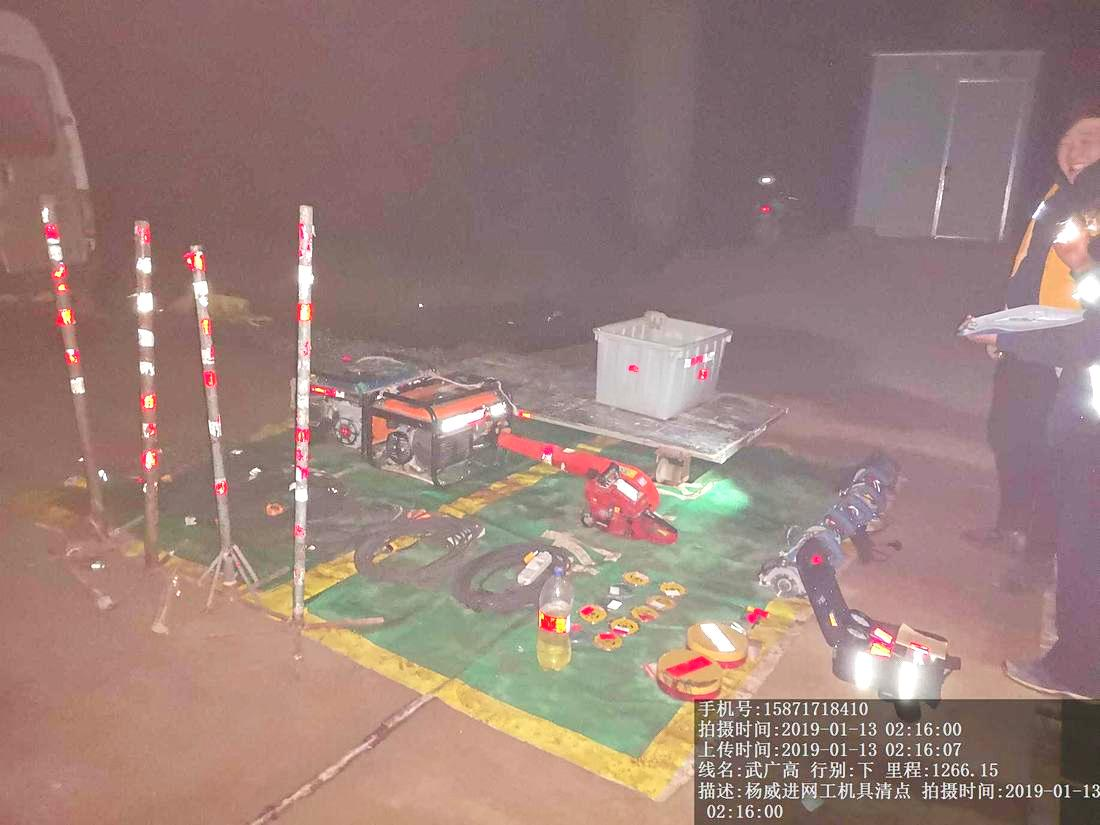DJ: (378, 377, 509, 493), (308, 345, 393, 458)
DX: (355, 509, 473, 592), (465, 539, 563, 610)
GFJ: (504, 437, 681, 546)
GJB: (801, 550, 955, 704)
JC: (655, 652, 727, 701), (689, 617, 752, 664)
T: (591, 307, 732, 420)
